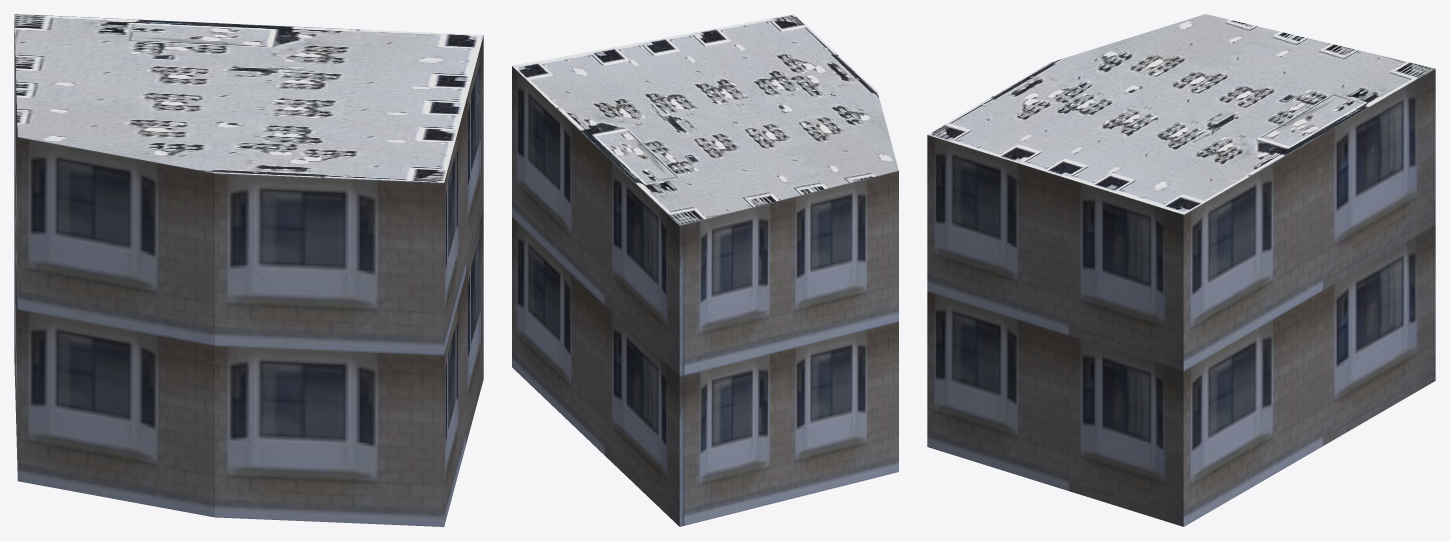
File: ResTex__4432.fbx
The picture shows the model from 3 angles, left to right: view 1: azimuth 30°, elevation 25°; view 2: azimuth 150°, elevation 25°; view 3: azimuth 270°, elevation 25°; orthographic projection. The views are drawn at different scales.
Parts seen in each view (by area): view 1: CityEngineMaterial_3_m, CityEngineMaterial_m; view 2: CityEngineMaterial_3_m, CityEngineMaterial_m; view 3: CityEngineMaterial_3_m, CityEngineMaterial_m.
Part boxes in pixels (x1,y1,x2,y2): CityEngineMaterial_3_m: [14, 20, 483, 526]; CityEngineMaterial_m: [14, 14, 483, 182]; CityEngineMaterial_3_m: [512, 66, 898, 526]; CityEngineMaterial_m: [512, 14, 898, 225]; CityEngineMaterial_3_m: [927, 69, 1435, 526]; CityEngineMaterial_m: [927, 14, 1435, 214].
Bounding box in the file's own units: 8.28 × 6 × 8.86.
Materials: 2 (2 with a texture image).
